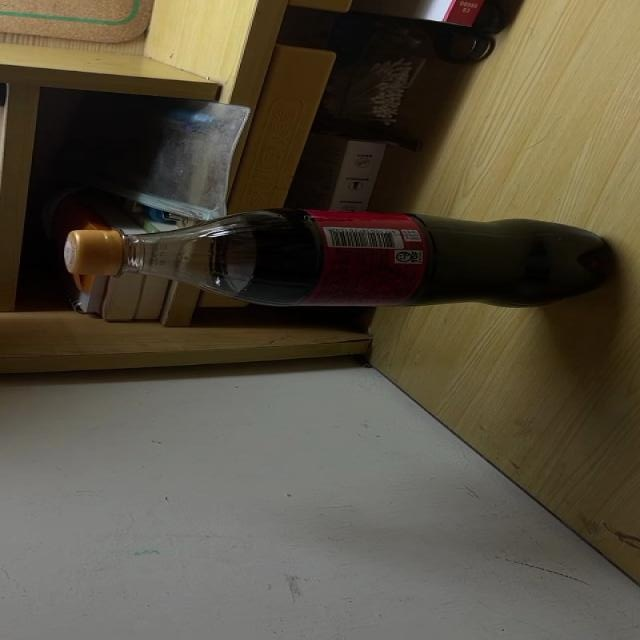Coca-Cola: (64, 210, 615, 308)
